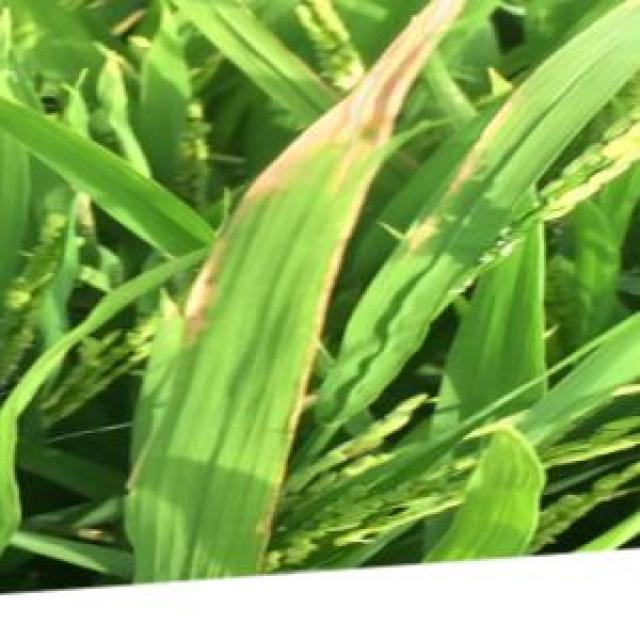Bacterial_Leaf_Blight: (246, 0, 467, 198), (181, 238, 220, 339)
